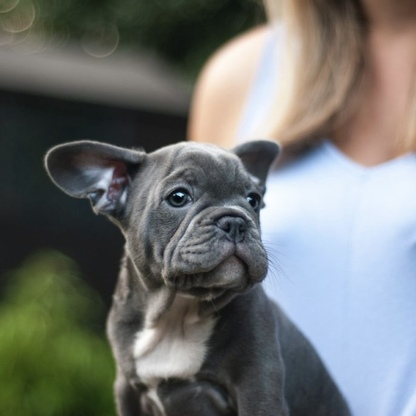bulldog: (38, 133, 356, 416)
